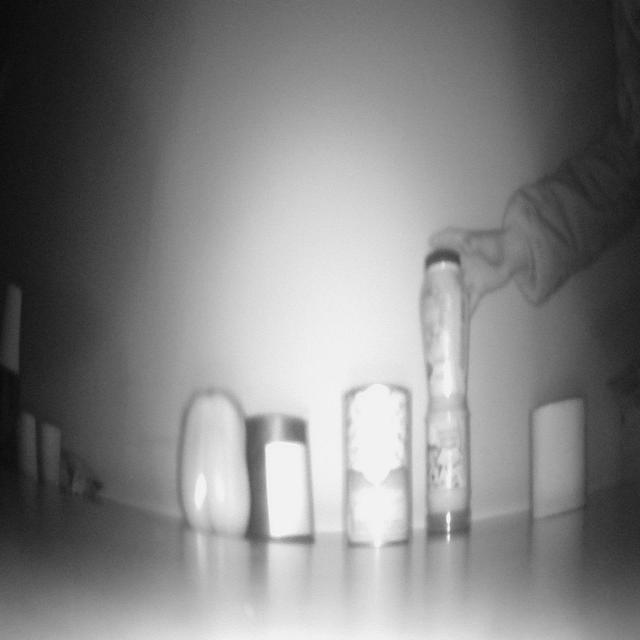targets: (342, 389, 415, 547), (179, 400, 247, 534), (245, 414, 315, 538), (528, 396, 591, 519), (422, 243, 468, 394), (427, 399, 470, 541), (43, 431, 101, 513), (612, 350, 640, 485), (0, 277, 26, 379), (40, 414, 60, 496), (18, 412, 40, 485)
